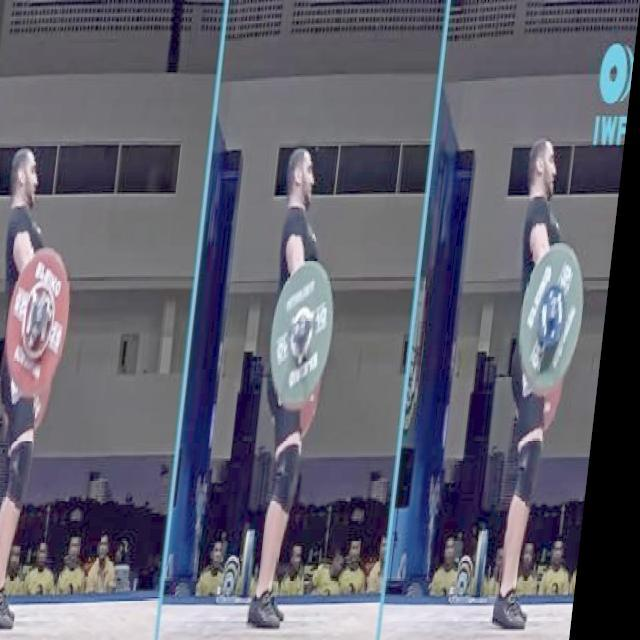barbell: (517, 235, 600, 399), (6, 243, 91, 402), (267, 257, 353, 411)
